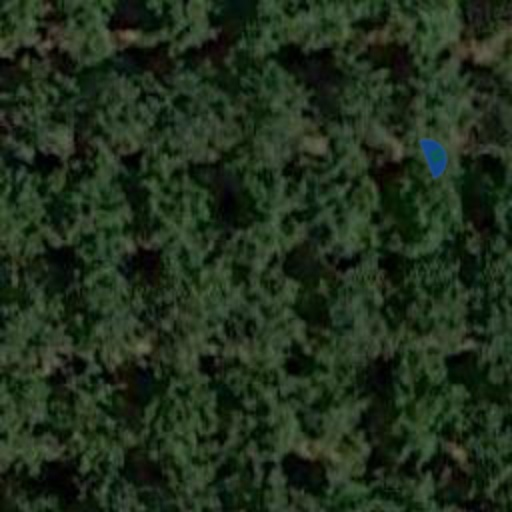semicircle: (408, 128, 464, 184)
